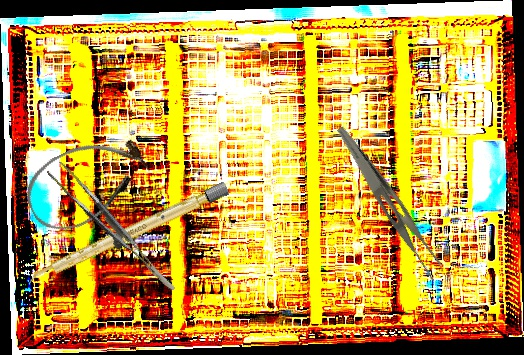Cannula: (15, 122, 158, 243)
Dressing Forceps: (320, 125, 454, 284)
Scalpel Handle: (25, 181, 230, 287)
Tissue Forceps: (46, 150, 176, 310)
